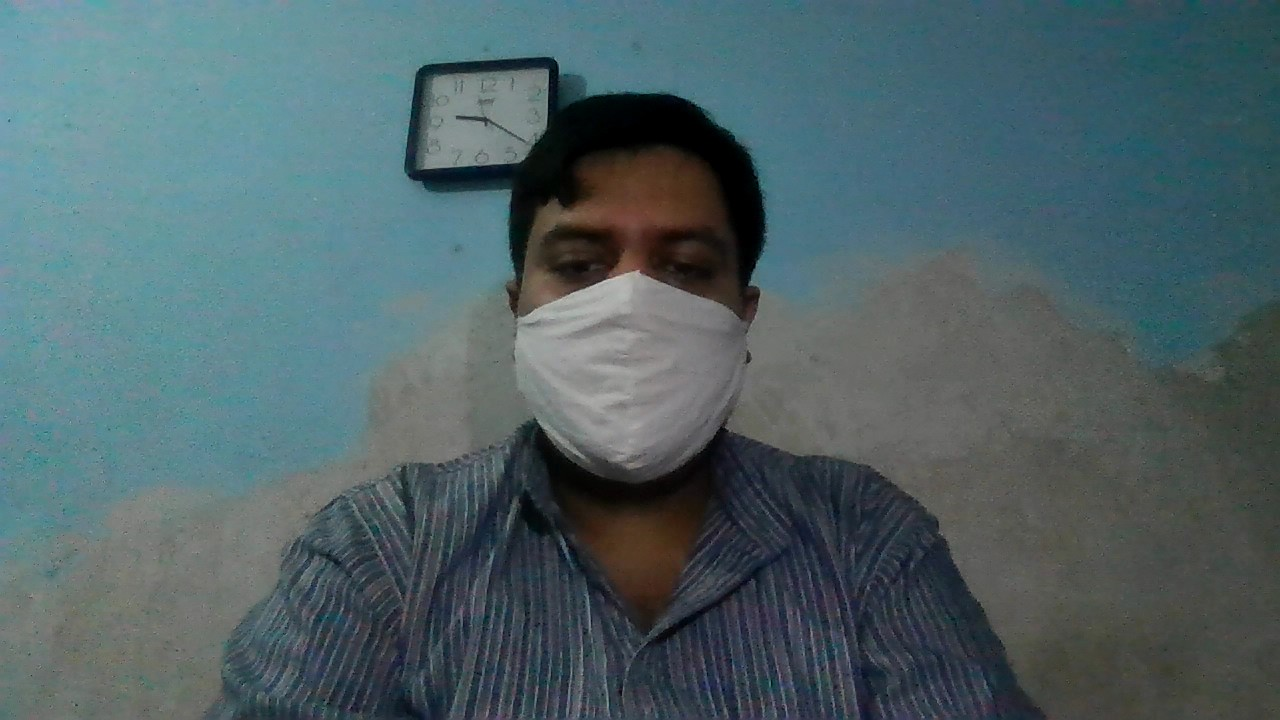Mask: (501, 270, 763, 486)
